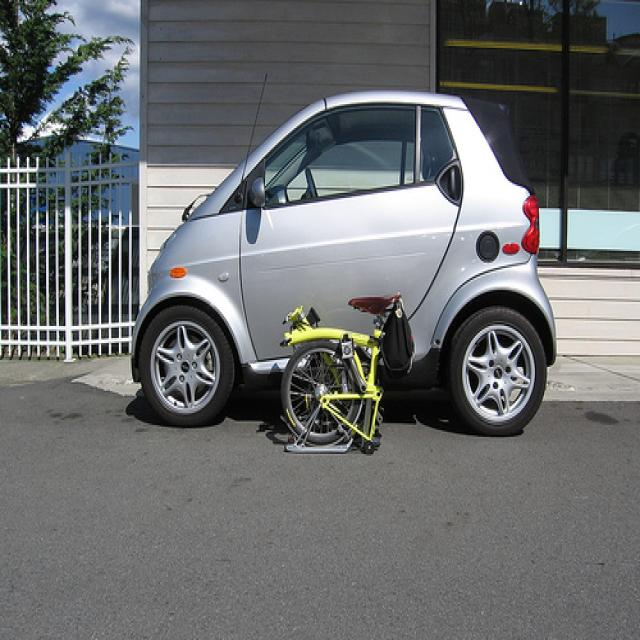Car: (126, 94, 566, 434)
